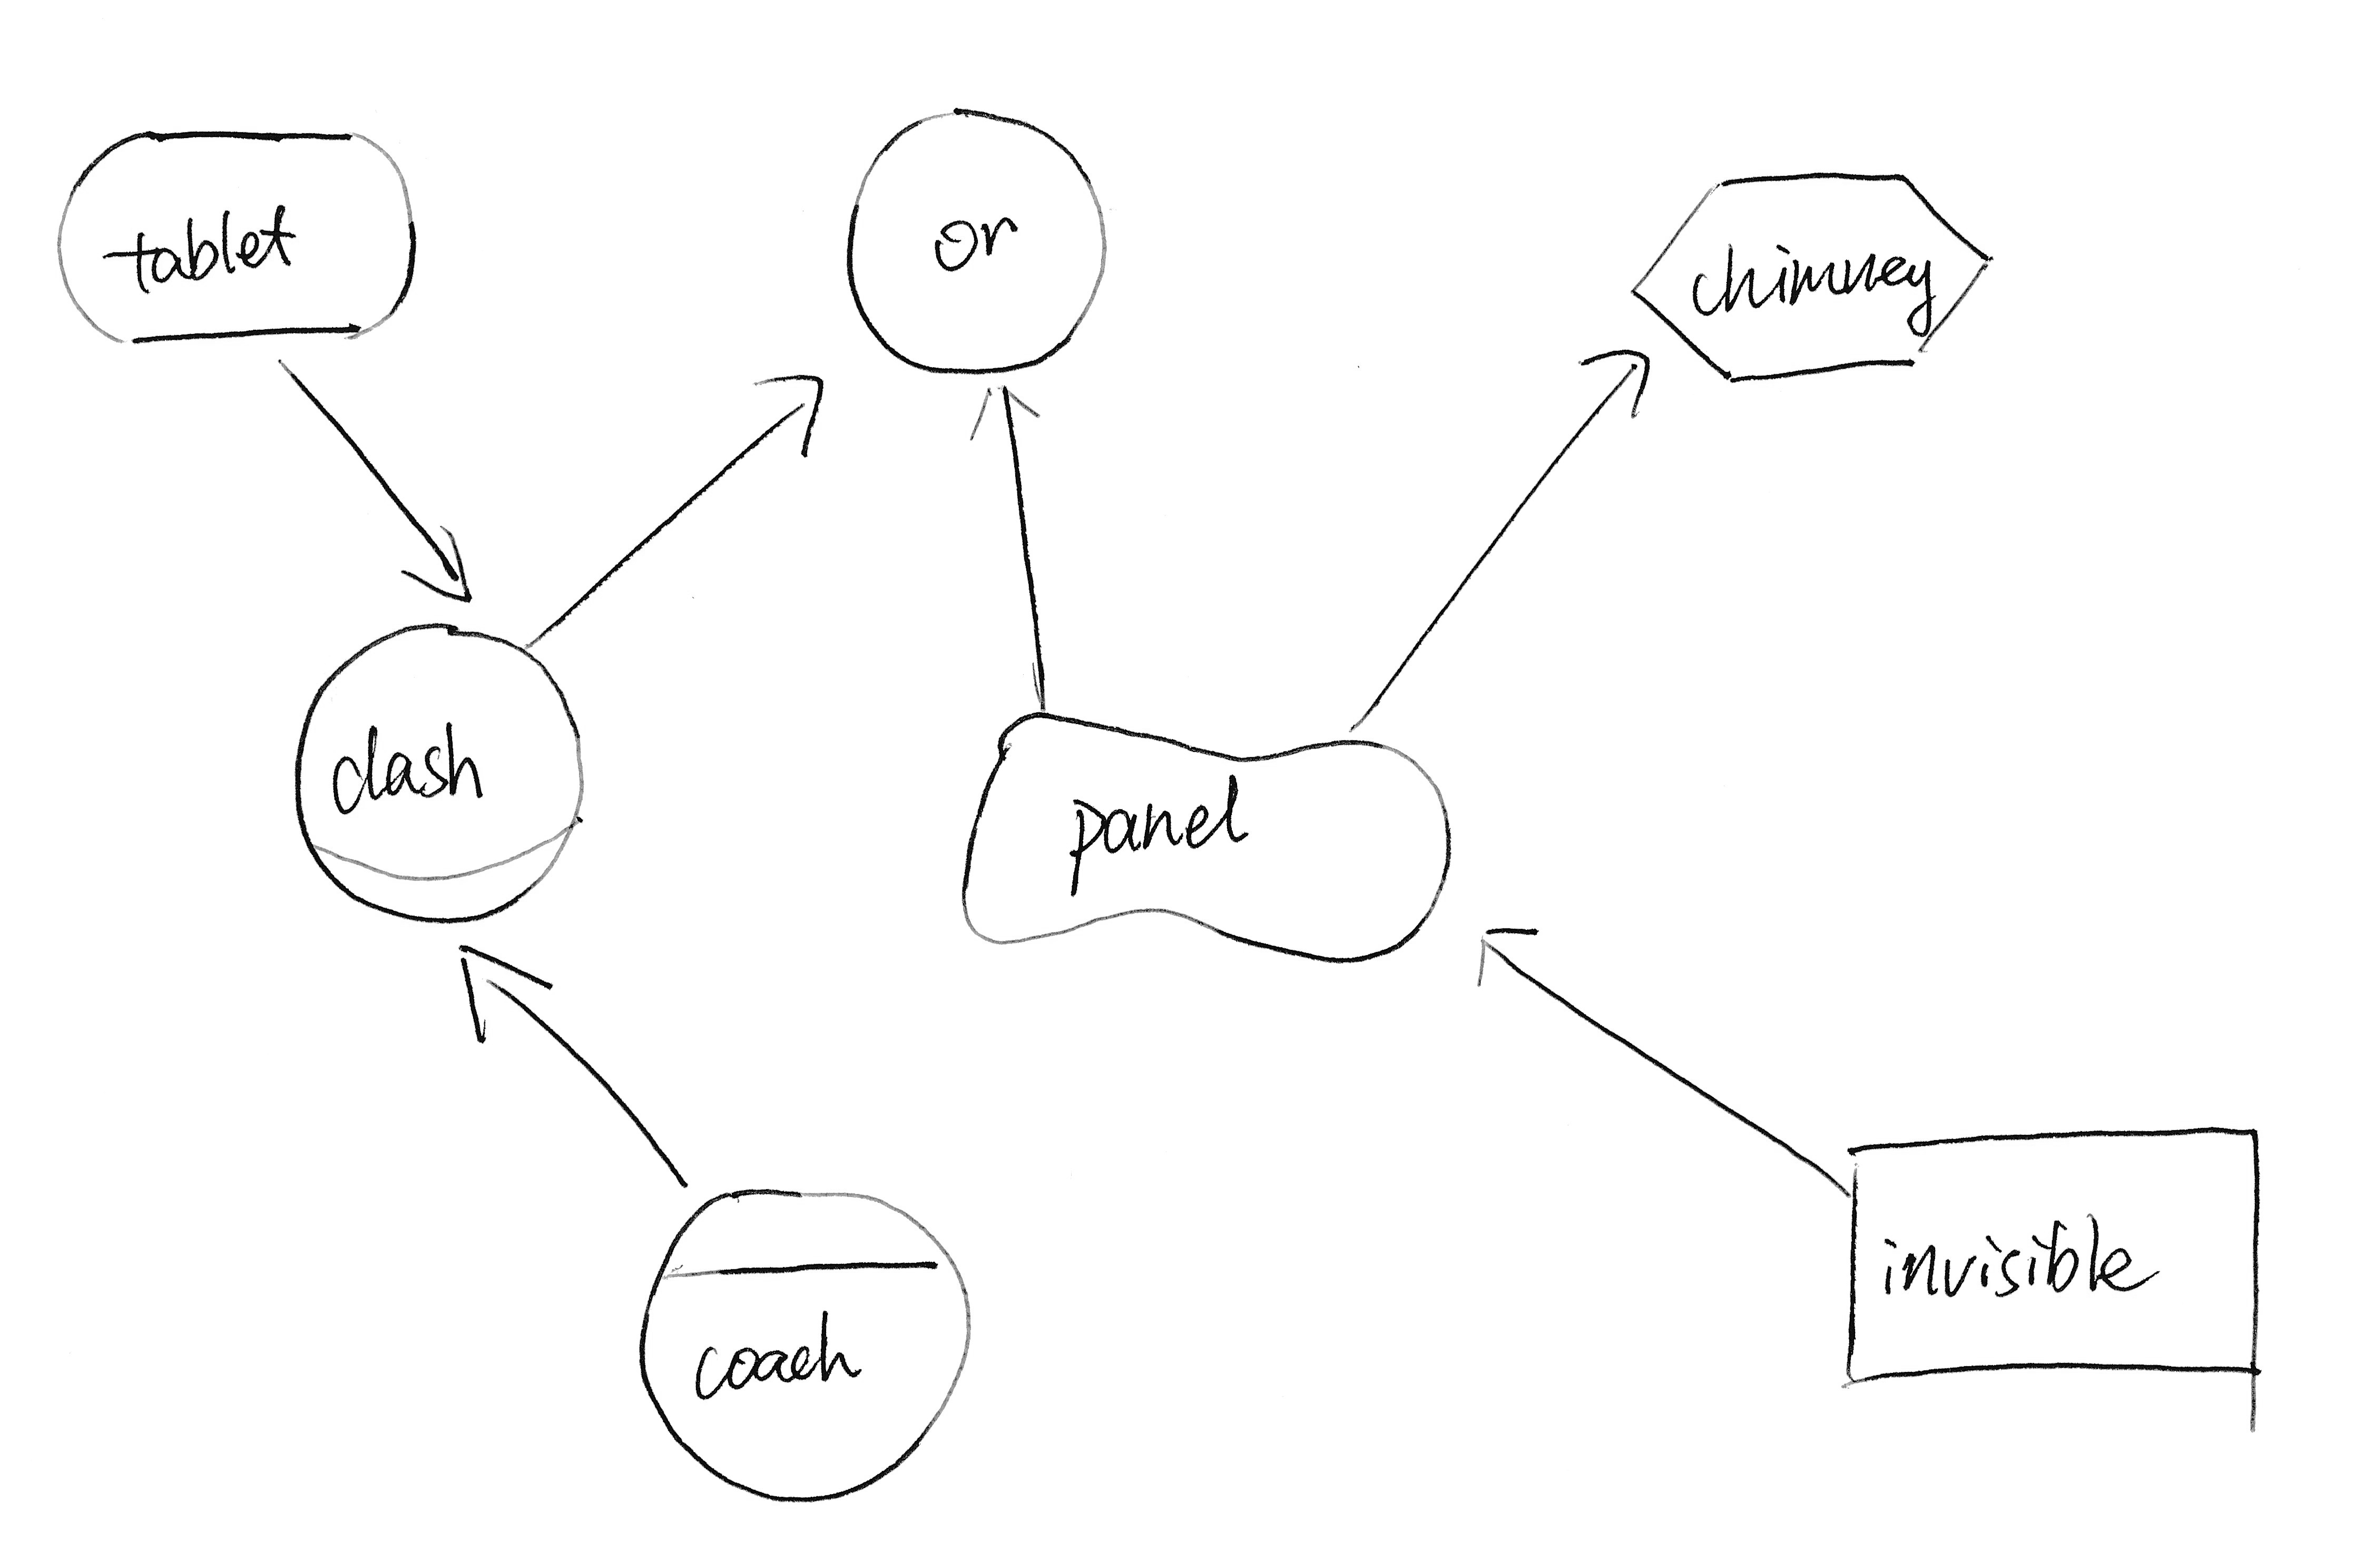actor: (824, 91, 1122, 387)
agent: (619, 1171, 990, 1512)
arrow: (432, 926, 565, 1059), (744, 346, 847, 474), (1564, 325, 1680, 436), (394, 504, 490, 612), (1450, 903, 1550, 1006), (955, 371, 1060, 460)
goal: (35, 112, 432, 364)
quality: (943, 689, 1468, 980)
resource: (1821, 1106, 2287, 1447)
task: (1617, 156, 2009, 399)
